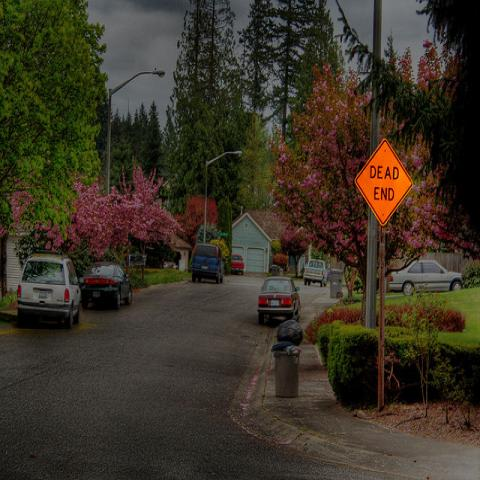car: (15, 253, 84, 324), (388, 260, 463, 296), (81, 262, 134, 308), (256, 277, 300, 325), (190, 243, 223, 285), (162, 258, 176, 269)
truck: (304, 258, 328, 288), (228, 254, 244, 275)
